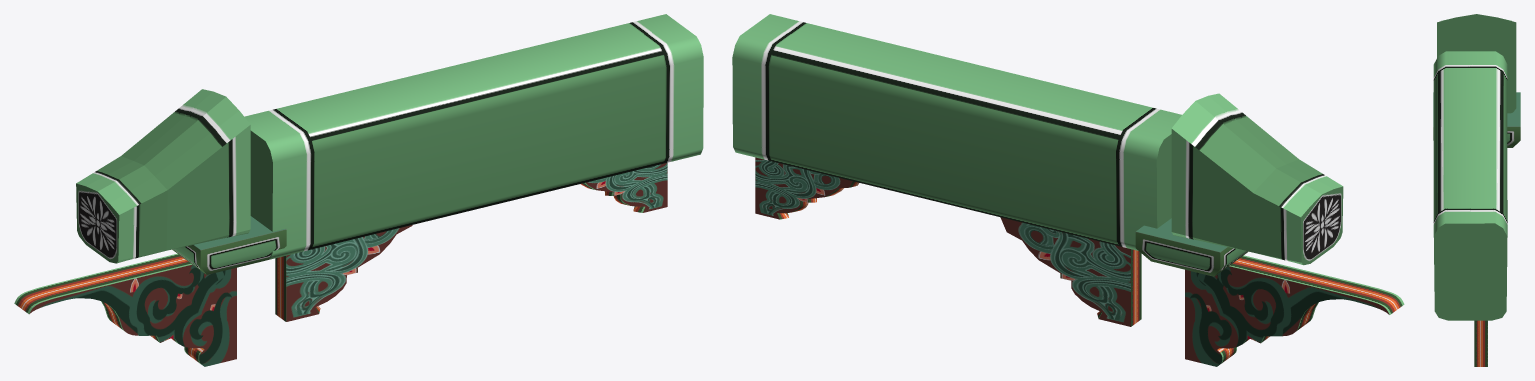
Rendered from SM_R_Beam_15.fbx.
3 renders of one model, left to right at view 1: azimuth 30°, elevation 25°; view 2: azimuth 150°, elevation 25°; view 3: azimuth 270°, elevation 25°, orthographic. The views are drawn at different scales.
Visible parts, largest first — view 1: SM_R_Beam_15; view 2: SM_R_Beam_15; view 3: SM_R_Beam_15.
Part boxes in pixels (x1,y1,x2,y2): SM_R_Beam_15: (14,14,703,366); SM_R_Beam_15: (732,14,1404,366); SM_R_Beam_15: (1433,14,1520,366).
Size of the model in its own units: 232 by 32.84 by 87.18.
Materials: 3 (3 with a texture image).
